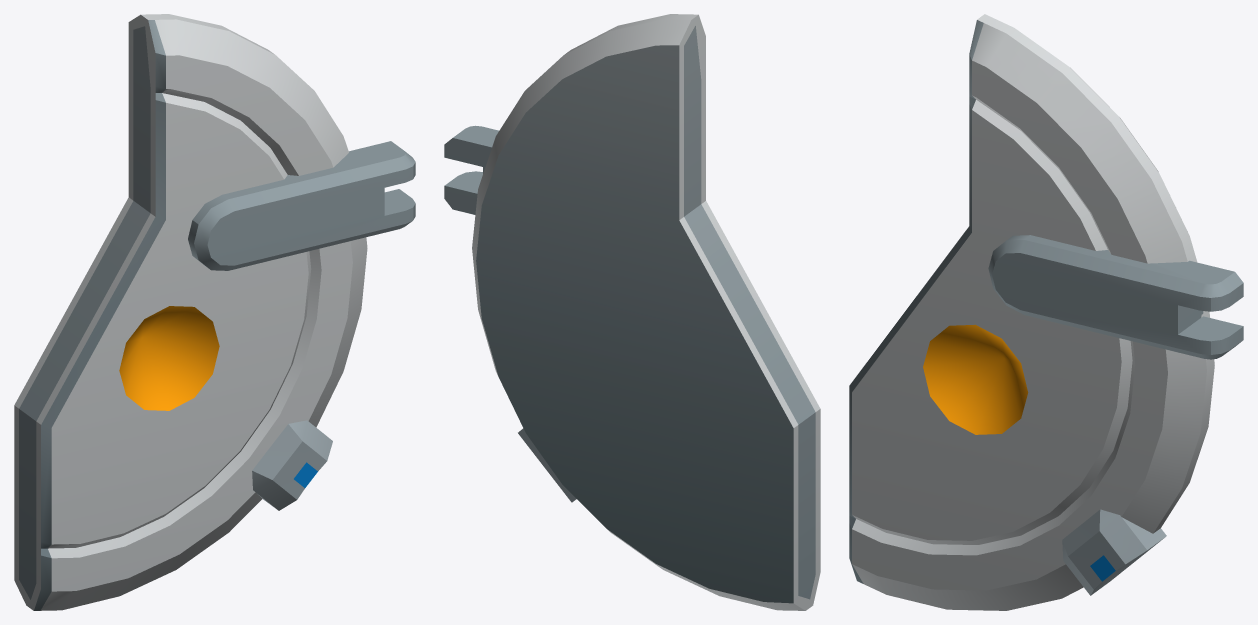
The model's file is Door_panel_011.fbx.
3 renders of one model, left to right at view 1: azimuth 30°, elevation 25°; view 2: azimuth 150°, elevation 25°; view 3: azimuth 330°, elevation 25°, orthographic. The views are drawn at different scales.
Parts seen in each view (by area): view 1: Door_panel_011; view 2: Door_panel_011; view 3: Door_panel_011.
Boxes of the visible parts, box(x1,y1,x2,y2) form: Door_panel_011: box(14, 14, 415, 610); Door_panel_011: box(444, 14, 820, 610); Door_panel_011: box(849, 14, 1243, 610).
Bounding box in the file's own units: 168 × 33.24 × 249.
